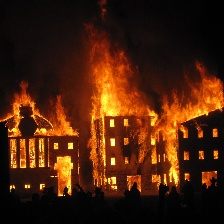fire: (78, 20, 224, 190), (2, 80, 85, 199)
